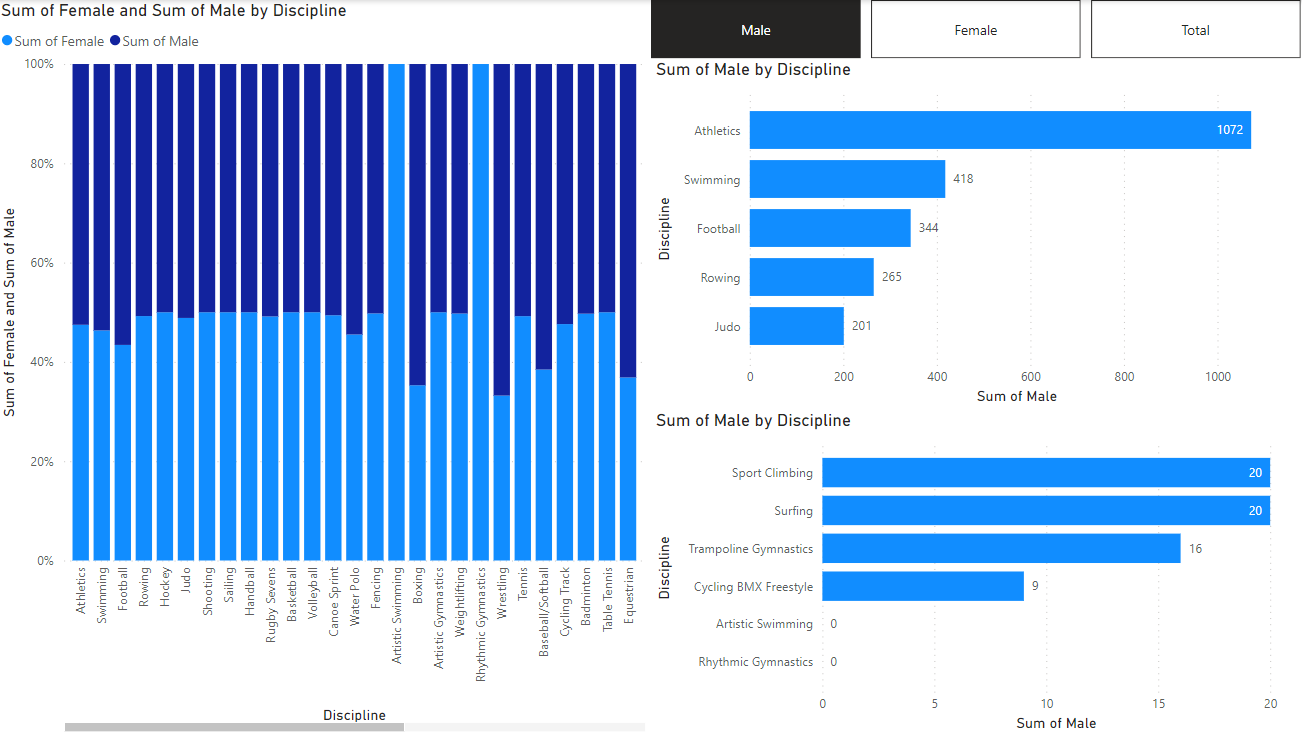

What the dashboard file says about the page in this screenshot:
{"tool":"powerbi","page":{"name":"Entries Gender","canvas":[1280,720],"ordinal":2},"visuals":[{"type":"hundredPercentStackedColumnChart","fields":{"Category":["EntriesGender.Discipline"],"Y":["Sum(EntriesGender.Female)","Sum(EntriesGender.Male)"]},"box":[0,0,640,719.9],"z":0},{"type":"clusteredBarChart","fields":{"Category":["EntriesGender.Discipline"],"Y":["Sum(EntriesGender.Male)"]},"box":[640,57,637.7,343.4],"z":1000},{"type":"clusteredBarChart","fields":{"Category":["EntriesGender.Discipline"],"Y":["Sum(EntriesGender.Male)"]},"box":[640,400.4,637.7,319.4],"z":2000},{"type":"bookmarkNavigator","box":[640,0,637.7,57],"z":7000}]}

Visuals, with their boxes in screenshot pixels (x1, y1, x2, y2), scaled from the page's 1280x720 canvas onto the 1302x733 screenshot:
hundredPercentStackedColumnChart - EntriesGender.Discipline x Sum(EntriesGender.Female): {"x1": 0, "y1": 0, "x2": 651, "y2": 732}
clusteredBarChart - EntriesGender.Discipline x Sum(EntriesGender.Male): {"x1": 651, "y1": 58, "x2": 1300, "y2": 408}
clusteredBarChart - EntriesGender.Discipline x Sum(EntriesGender.Male): {"x1": 651, "y1": 408, "x2": 1300, "y2": 732}
bookmarkNavigator: {"x1": 651, "y1": 0, "x2": 1300, "y2": 58}
